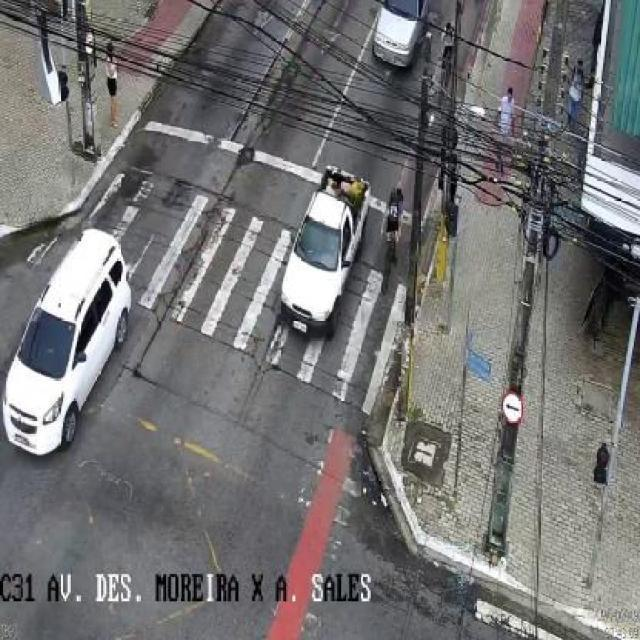Car: (2, 230, 133, 457), (370, 0, 430, 69)
Truck: (282, 165, 374, 338)
